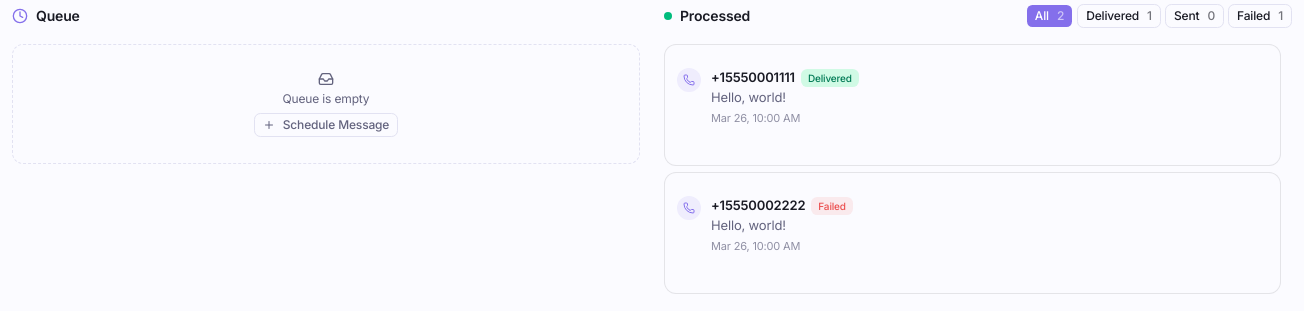
Test case: MessageList › filter chips › returns to all when All chip is clicked
Expected: the text "+15550001111" is shown, left=711, top=71, right=795, bottom=84
Filter to failed only
Click the button "Failed 1".
click(1260, 16)  # box left=1228, top=4, right=1292, bottom=28
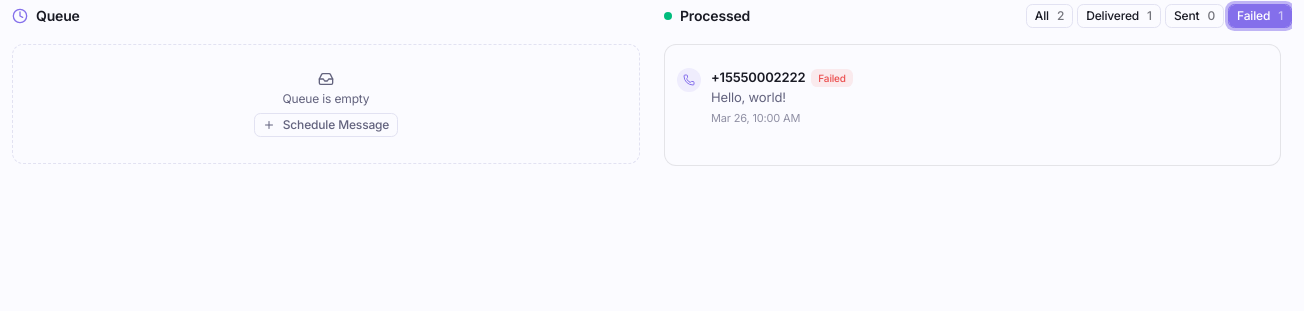
Expected: the text "+15550001111" is gone
Back to all
Click the button "All 2".
click(1049, 16)  # box left=1026, top=4, right=1073, bottom=28
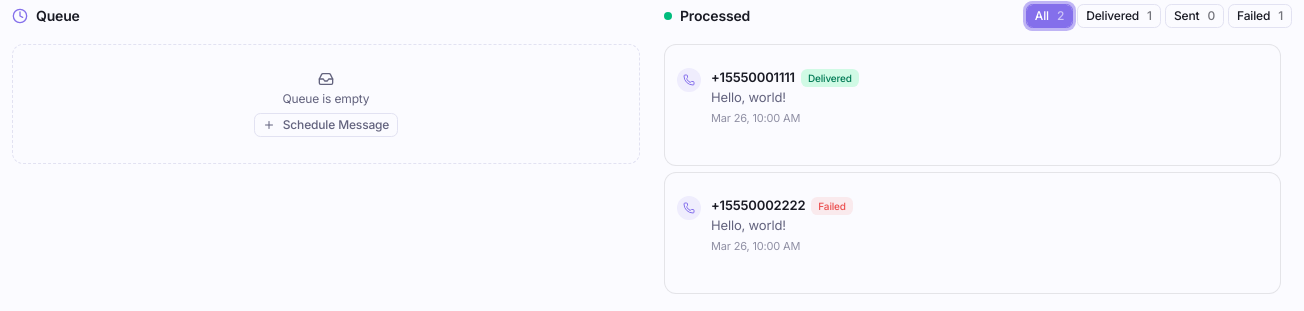
Expected: the text "+15550002222" is shown, left=711, top=199, right=805, bottom=212
Expected: the text "+15550001111" is shown, left=711, top=71, right=795, bottom=84
